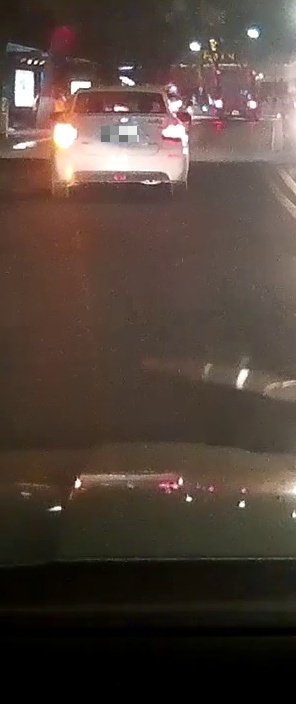L_light: (55, 122, 78, 139)
R_light: (162, 124, 185, 141)
T_light: (105, 106, 131, 112)
night-right: (50, 85, 191, 199)
plate_1: (101, 126, 139, 142)
